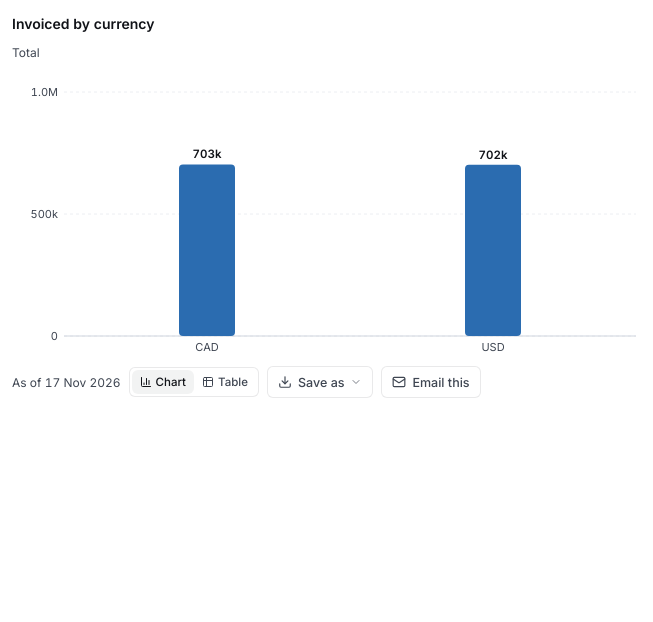
Test: answer charts › offers the files and PNG under a chart in one Save menu
Expected: the text "Save as" is shown once, [298,370,344,394]
Click the heading named "Save the chart".
click(320, 382)  # box [267,366,374,398]
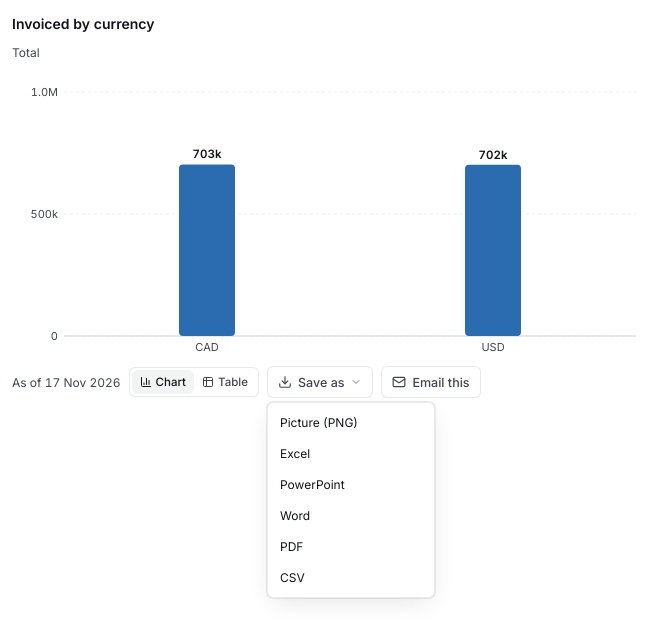
Now the menu item "Picture (PNG)" is shown, box [268,407,434,438]
Now the menu item "Excel" is shown, box [268,438,434,469]
Now the menu item "PowerPoint" is shown, box [268,469,434,500]
